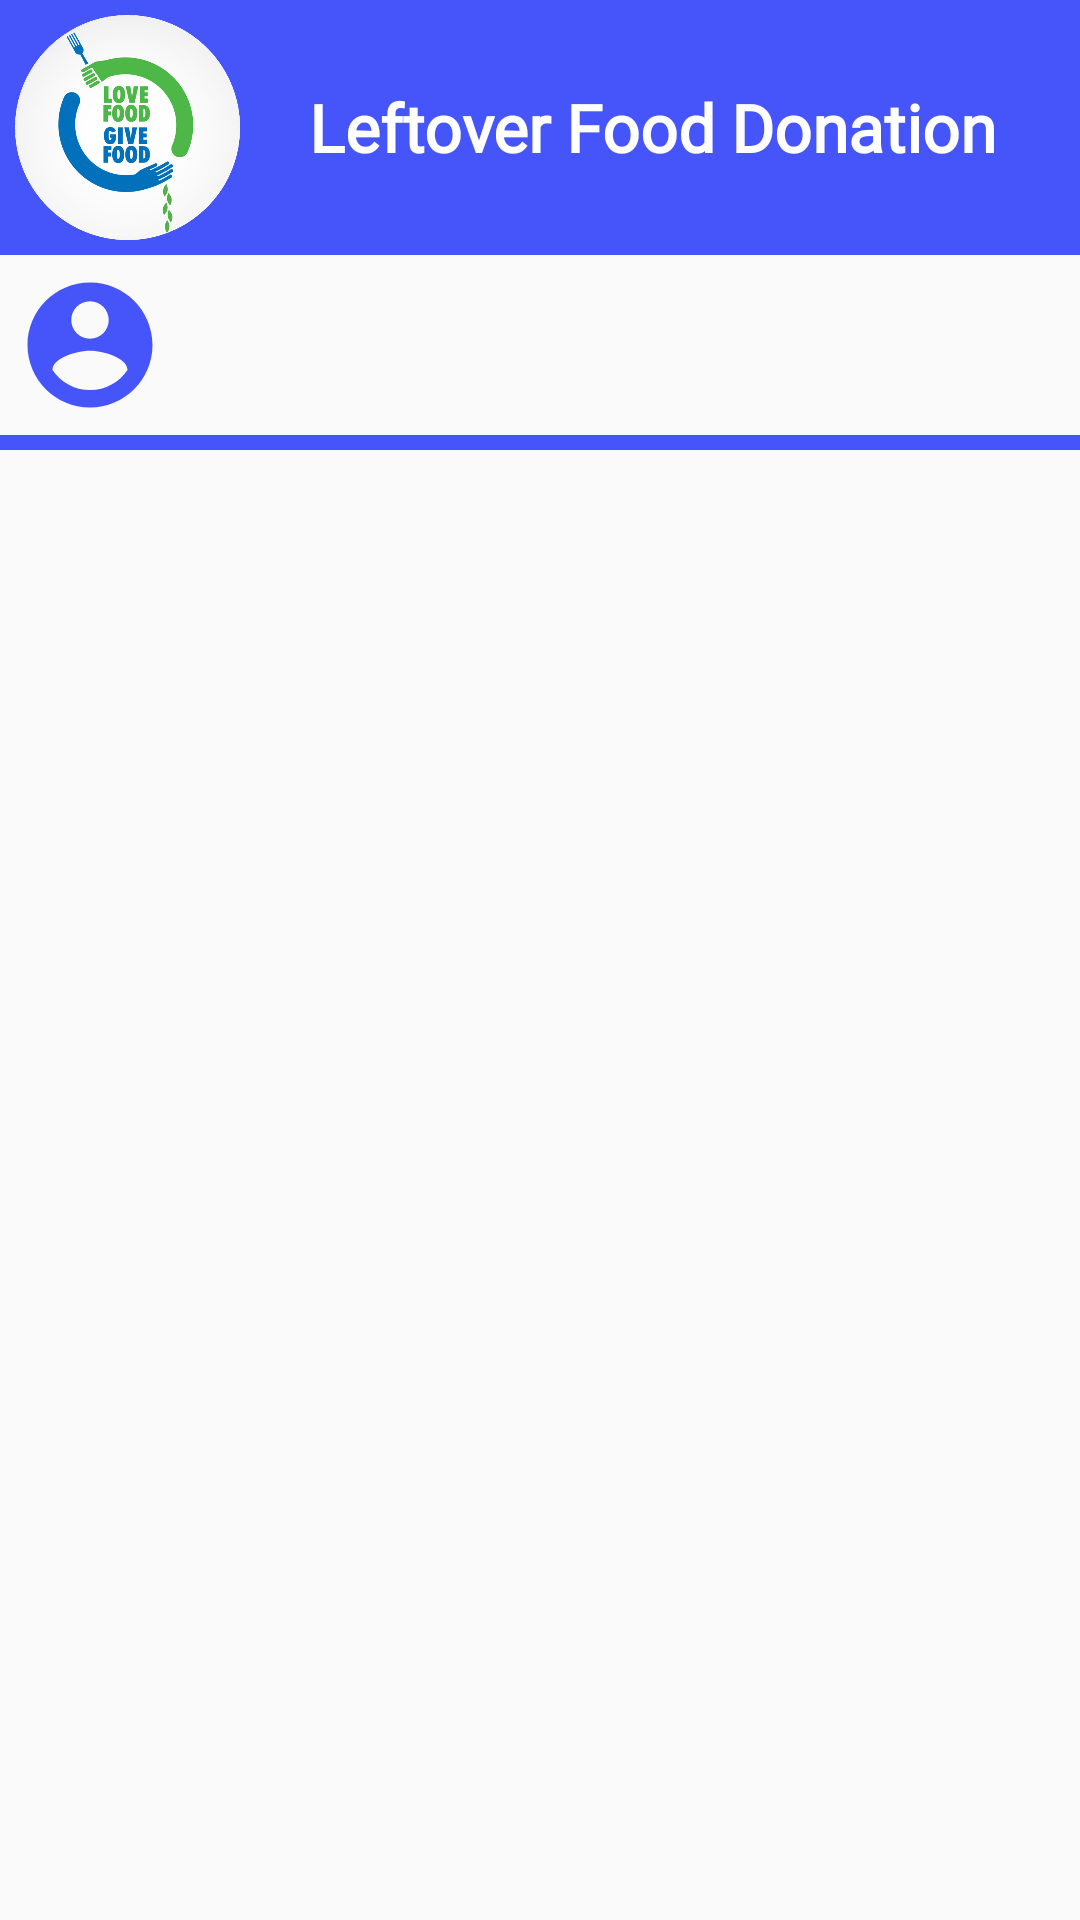

Locate icon controls on the screen. Image size 1080px×1920px, boxes as bbox=[x1, y1, x2, y2].
account: bbox=[27, 282, 153, 408]
